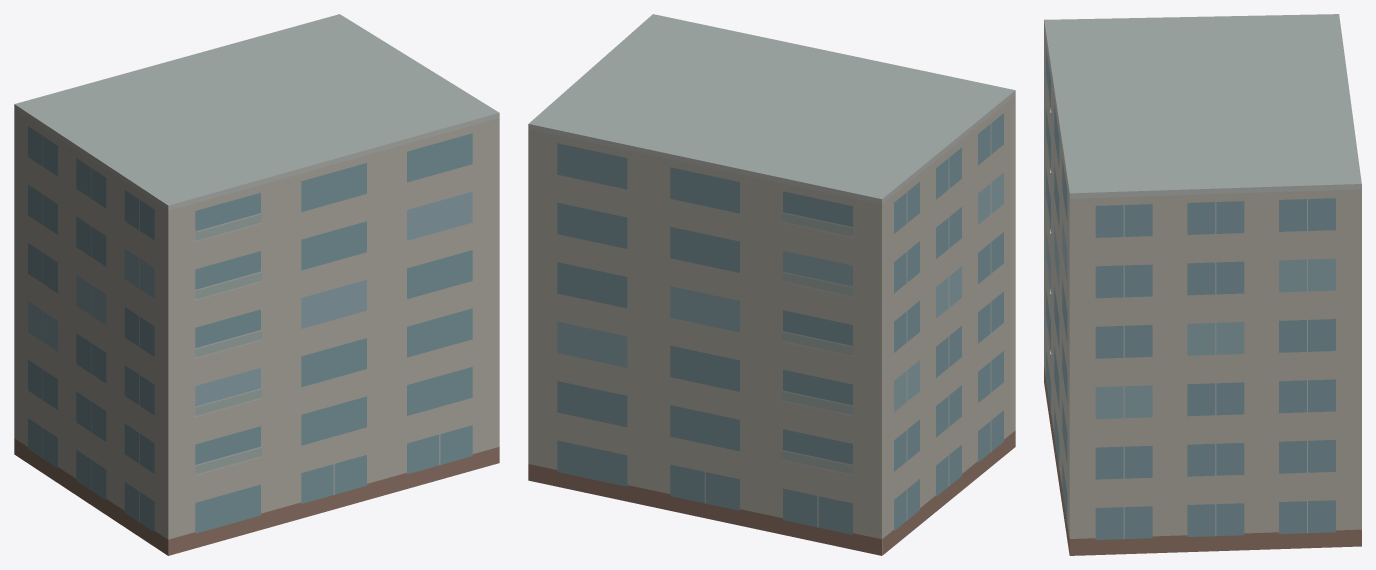
The model's file is survey-upis-32991756.glb.
The picture shows the model from 3 angles, left to right: view 1: azimuth 30°, elevation 25°; view 2: azimuth 150°, elevation 25°; view 3: azimuth 270°, elevation 25°; orthographic projection. The views are drawn at different scales.
Visible parts, largest first — view 1: survey-upis-32991756.tmp; view 2: survey-upis-32991756.tmp; view 3: survey-upis-32991756.tmp.
Boxes of the visible parts, x1=… form: survey-upis-32991756.tmp: x1=14, y1=14, x2=499, y2=555; survey-upis-32991756.tmp: x1=528, y1=14, x2=1015, y2=555; survey-upis-32991756.tmp: x1=1044, y1=14, x2=1361, y2=555.
Bounding box in the file's own units: 17.41 × 16.4 × 13.04.
